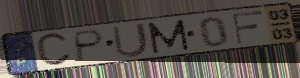0: (197, 15, 232, 48)
C: (34, 32, 74, 68)
F: (231, 9, 265, 46)
M: (146, 18, 192, 56)
P: (73, 28, 107, 64)
U: (110, 21, 151, 59)
